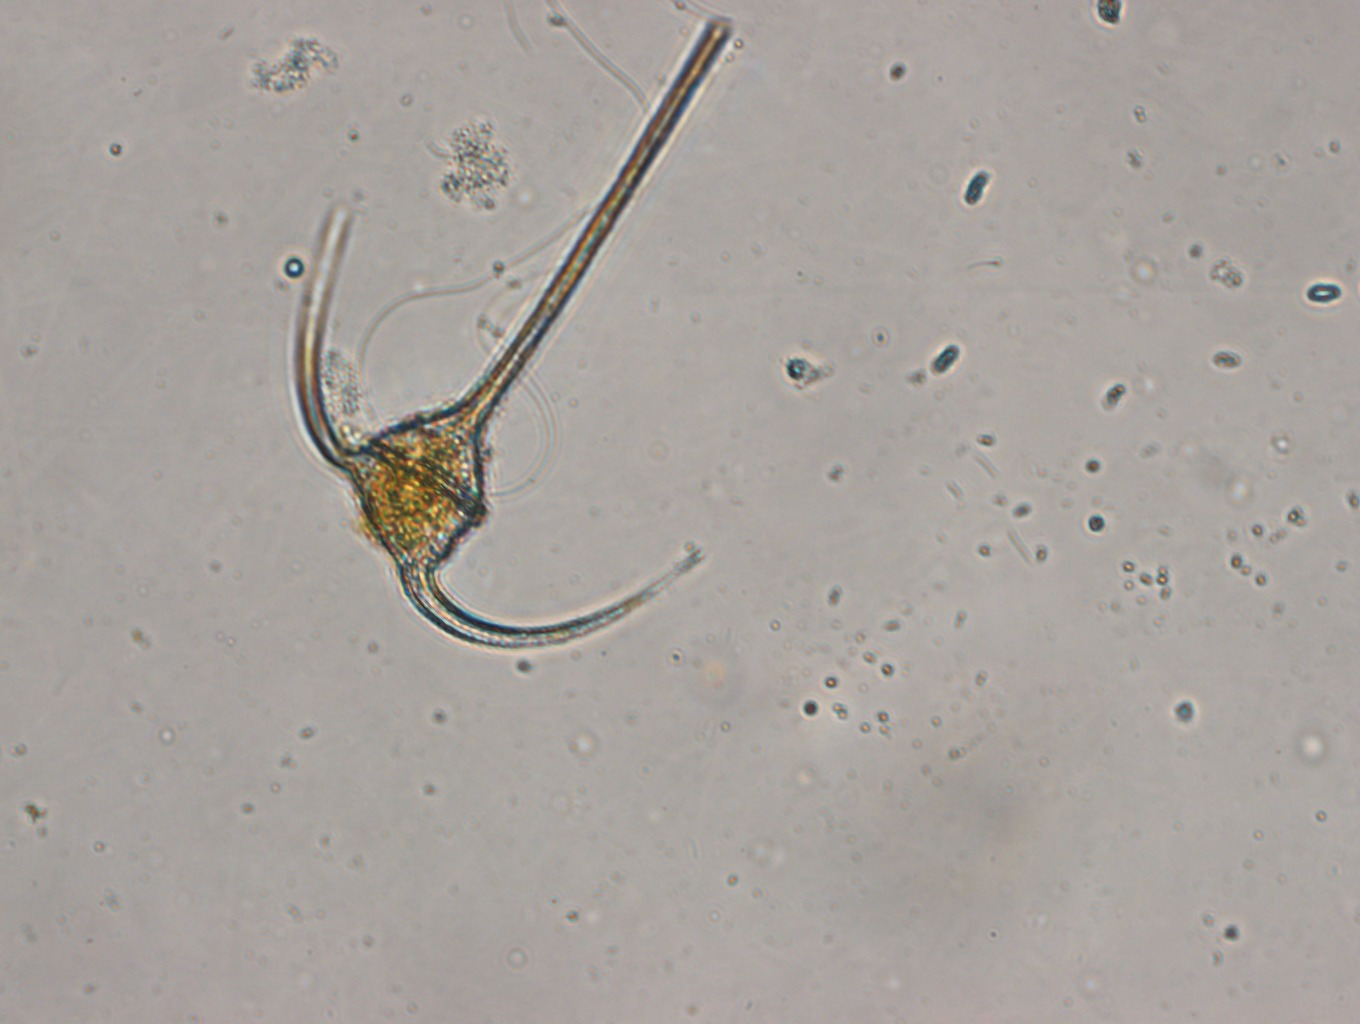ceratium trichoceros: (276, 8, 744, 653)
